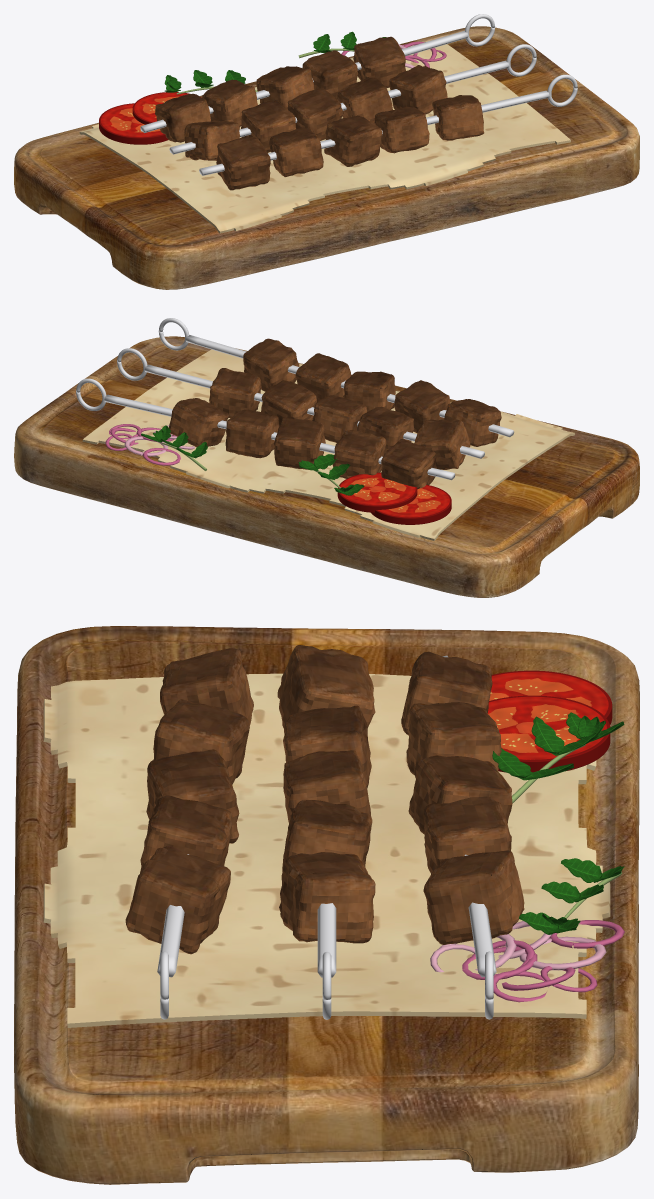
The model's file is shashlik.glb.
3 renders of one model, top to bottom at view 1: azimuth 30°, elevation 25°; view 2: azimuth 150°, elevation 25°; view 3: azimuth 270°, elevation 25°, orthographic. The views are drawn at different scales.
Parts seen in each view (by area): view 1: base, skewers, lavash, tomato, parsley, sumac-onion; view 2: base, skewers, lavash, tomato, parsley, sumac-onion; view 3: base, lavash, skewers, tomato, parsley, sumac-onion.
Part boxes in pixels (left/top/right/bottom): base: left=14, top=26, right=639, bottom=289; skewers: left=140, top=14, right=577, bottom=190; lavash: left=79, top=40, right=570, bottom=233; tomato: left=99, top=92, right=201, bottom=144; parsley: left=164, top=31, right=386, bottom=94; sumac-onion: left=341, top=41, right=446, bottom=68; base: left=14, top=336, right=639, bottom=597; skewers: left=76, top=318, right=514, bottom=489; lavash: left=82, top=349, right=574, bottom=540; tomato: left=337, top=472, right=451, bottom=524; parsley: left=141, top=425, right=364, bottom=495; sumac-onion: left=105, top=424, right=194, bottom=465; base: left=14, top=626, right=639, bottom=1184; lavash: left=43, top=673, right=610, bottom=1027; skewers: left=125, top=645, right=524, bottom=1019; tomato: left=487, top=670, right=612, bottom=772; parsley: left=492, top=712, right=624, bottom=934; sumac-onion: left=430, top=920, right=624, bottom=1002.
Bounding box in the file's own units: 0.42 × 0.0738 × 0.2303.
Materials: 12 (6 with a texture image).
